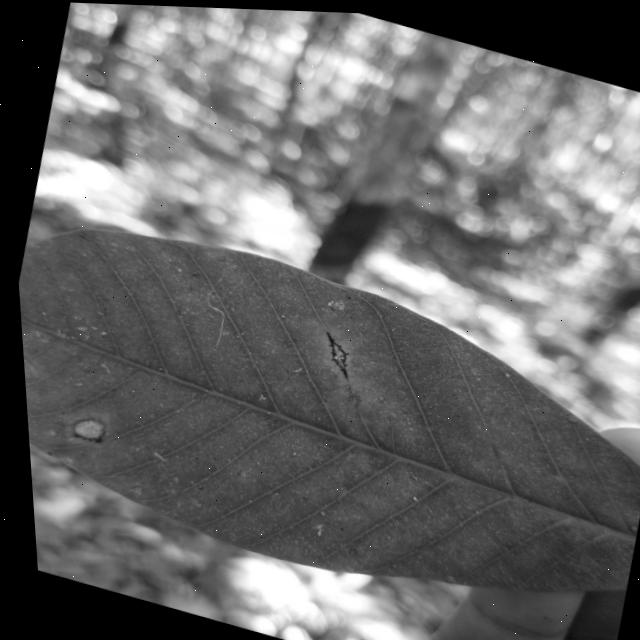Corynespora: (312, 328, 352, 377)
Leaf-Blight: (65, 413, 102, 443)
